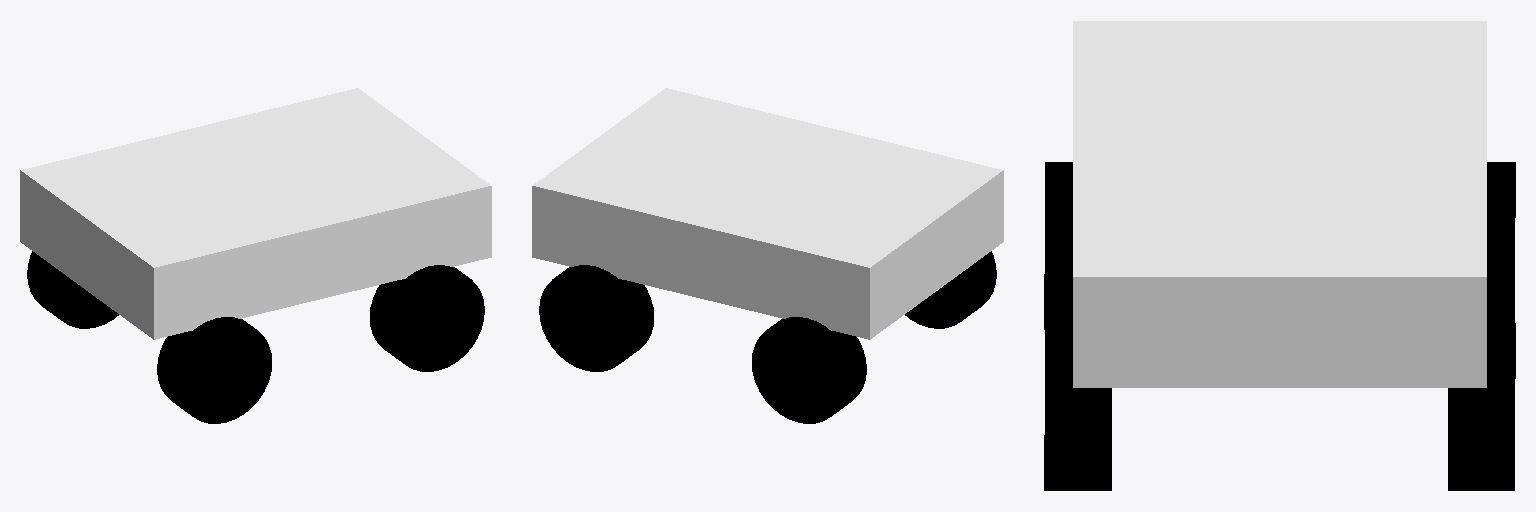
robot.urdf — wheeltec_robot:
<?xml version="1.0" ?>
<robot name="wheeltec_robot">

    <link name="base_link">
        <visual>
            <origin xyz=" 0 0 0.0975" rpy="0 0 0" />
            <geometry>
                <box size="0.27 0.185 0.055"/>
            </geometry>
            <material name="white">
                <color rgba="1 1 1 1"/>
            </material>
        </visual>
    </link>   

    <joint name="left_wheel_joint" type="continuous">
        <origin xyz="-0.085 0.09 0.0375" rpy="1.57 0 0"/>
        <parent link="base_link"/>
        <child link="left_wheel_link"/>
        <axis xyz="0 1 0"/>
    </joint>

    <link name="left_wheel_link">
        <visual>
            <origin xyz="0 0 0" rpy="0 0 0" />
            <geometry>
                <cylinder radius="0.0375" length = "0.03"/>
            </geometry>
            <material name="black">
                <color rgba="0 0 0 1"/>
            </material>
        </visual>
    </link>

    <joint name="right_wheel_joint" type="continuous">
        <origin xyz="-0.085 -0.09 0.0375" rpy="1.57 0 0"/>
        <parent link="base_link"/>
        <child link="right_wheel_link"/>
        <axis xyz="0 1 0"/>
    </joint>

    <link name="right_wheel_link">
        <visual>
            <origin xyz="0 0 0" rpy="0 0 0" />
            <geometry>
                <cylinder radius="0.0375" length = "0.03"/>
            </geometry>
            <material name="black">
                <color rgba="0 0 0 1"/>
            </material>
        </visual>
    </link>

      <joint name="left_front_joint" type="continuous">
        <origin xyz="0.085 0.09 0.0375" rpy="1.57 0 0"/>
        <parent link="base_link"/>
        <child link="left_front_link"/>
        <axis xyz="0 1 0"/>
    </joint>

    <link name="left_front_link">
        <visual>
            <origin xyz="0 0 0" rpy="0 0 0" />
            <geometry>
                <cylinder radius="0.0375" length = "0.03"/>
            </geometry>
            <material name="black">
                <color rgba="0 0 0 1"/>
            </material>
        </visual>
    </link>

    <joint name="right_front_joint" type="continuous">
        <origin xyz="0.085 -0.09 0.0375" rpy="1.57 0 0"/>
        <parent link="base_link"/>
        <child link="right_front_link"/>
        <axis xyz="0 1 0"/>
    </joint>

    <link name="right_front_link">
        <visual>
            <origin xyz="0 0 0" rpy="0 0 0" />
            <geometry>
                <cylinder radius="0.0375" length = "0.03"/>
            </geometry>
            <material name="black">
                <color rgba="0 0 0 1"/>
            </material>
        </visual>
    </link>


</robot>

--- What the picture shows (computed from the rendered views, not written in the file) ---
Views: 3 orthographic renders of the robot side by side, from view 1: azimuth 30°, elevation 25°; view 2: azimuth 150°, elevation 25°; view 3: azimuth 270°, elevation 25°.
Model wheeltec_robot with 5 links and 4 joints (4 continuous), rooted at base_link, posed every joint at zero.
Visible links, largest first — view 1: base_link, right_wheel_link, right_front_link, left_wheel_link; view 2: base_link, left_wheel_link, left_front_link, right_wheel_link; view 3: base_link, left_front_link, right_front_link, left_wheel_link, right_wheel_link.
Boxes of the visible links, x1,y1,x2,y2 form: base_link: (20, 88, 491, 339); right_wheel_link: (157, 317, 271, 423); right_front_link: (370, 265, 484, 371); left_wheel_link: (27, 251, 118, 328); base_link: (532, 88, 1003, 339); left_wheel_link: (752, 317, 866, 423); left_front_link: (539, 265, 653, 371); right_wheel_link: (905, 251, 996, 328); base_link: (1073, 21, 1486, 387); left_front_link: (1448, 323, 1515, 490); right_front_link: (1044, 323, 1111, 490); left_wheel_link: (1487, 162, 1515, 322); right_wheel_link: (1044, 162, 1072, 329).
Bounding box of the posed robot: 0.27 × 0.2101 × 0.125 m (x, y, z).
Geometry: primitives only (box / cylinder / sphere), no mesh files.